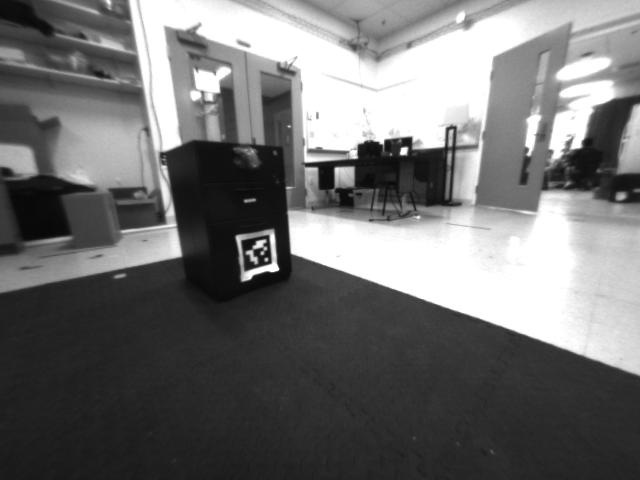drawer: (227, 142, 264, 177)
